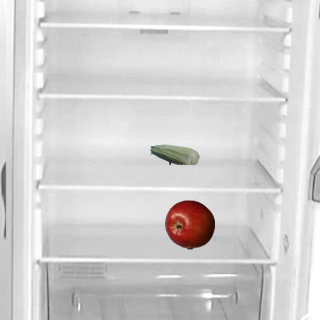Apple Braeburn: (164, 199, 214, 249)
Corn Husk: (149, 129, 199, 179)
